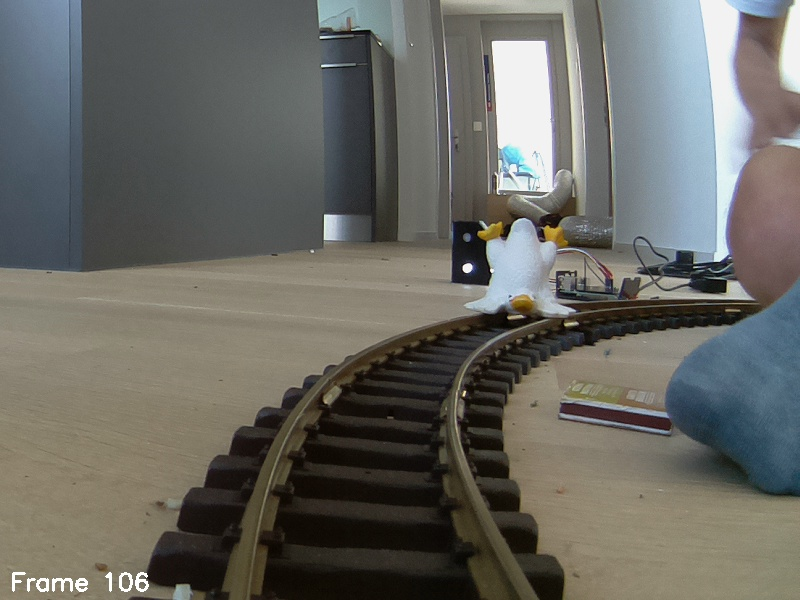Ente: (464, 219, 579, 317)
